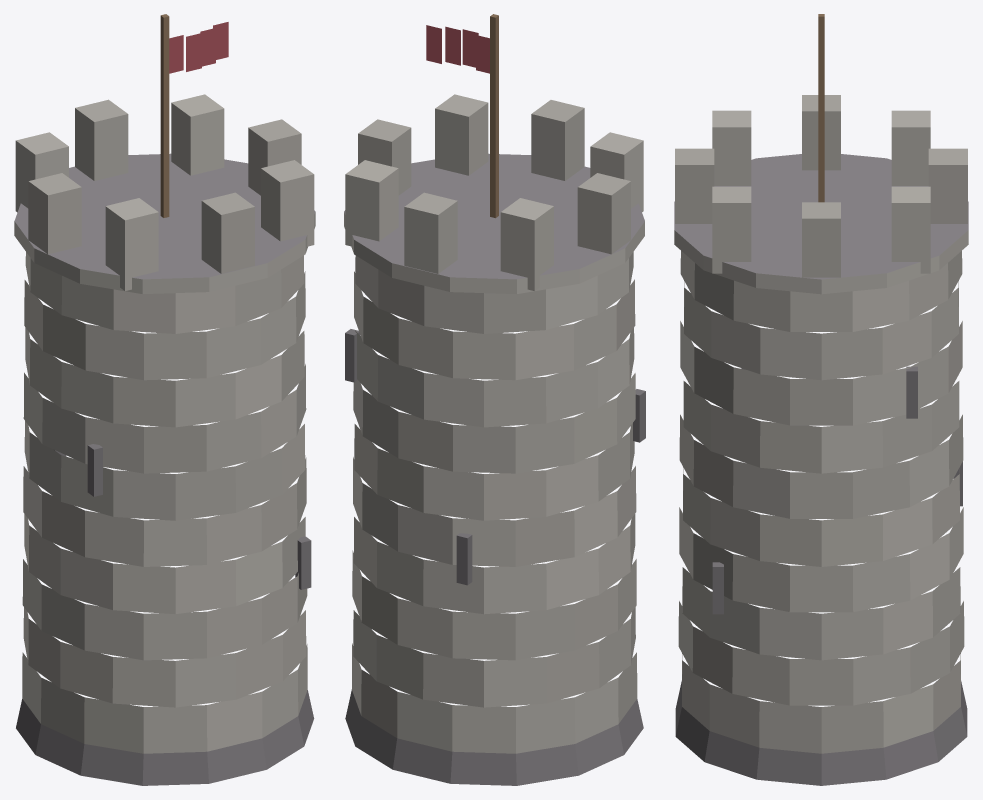
Rendered from castle_tower.glb.
3 views of the same model, side by side, from view 1: azimuth 30°, elevation 25°; view 2: azimuth 150°, elevation 25°; view 3: azimuth 270°, elevation 25° (orthographic).
Visible parts, largest first — view 1: castle_tower; view 2: castle_tower; view 3: castle_tower.
Part boxes in pixels (box(x1,y1,x2,y2)): castle_tower: box(14, 14, 315, 785); castle_tower: box(344, 14, 645, 785); castle_tower: box(674, 14, 968, 785).
Size of the model in its own units: 4.64 by 12 by 4.52.
